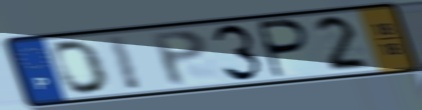2: (314, 13, 374, 74)
3: (208, 23, 264, 84)
I: (104, 33, 144, 93)
O: (51, 38, 112, 96)
P: (148, 27, 210, 88), (257, 17, 313, 81)
